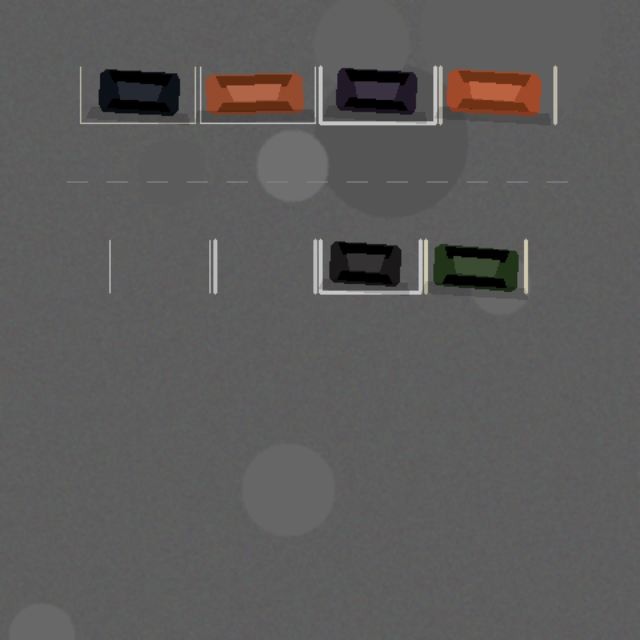space-empty: (109, 240, 209, 292), (215, 240, 315, 292)
space-occupied: (80, 67, 195, 123), (200, 67, 315, 123), (320, 67, 435, 123), (440, 67, 555, 123), (320, 240, 420, 292), (425, 240, 525, 292)
